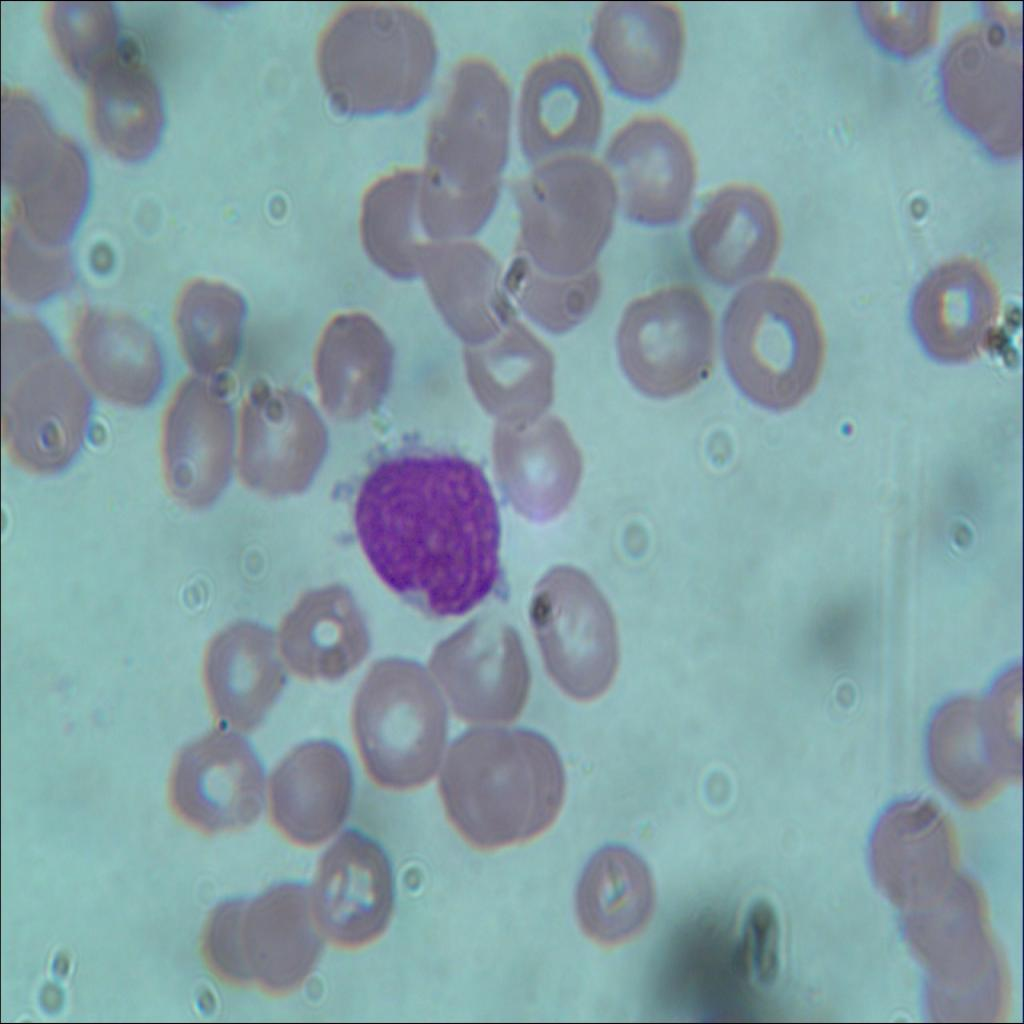Eritrosit: (716, 278, 828, 412), (529, 558, 623, 713), (906, 247, 1001, 382), (354, 651, 440, 799), (610, 285, 722, 398), (435, 607, 535, 731), (606, 108, 704, 234), (923, 695, 1021, 812), (440, 719, 530, 845), (521, 144, 613, 266), (174, 719, 268, 837), (238, 376, 326, 502), (69, 298, 161, 412), (593, 0, 689, 108), (311, 298, 395, 421), (514, 222, 606, 332), (13, 122, 95, 244), (163, 375, 236, 512), (486, 721, 566, 845), (6, 351, 84, 477), (83, 48, 171, 159), (278, 577, 373, 678), (516, 51, 602, 162), (269, 738, 356, 847), (938, 28, 1023, 138), (893, 872, 988, 970), (691, 180, 774, 292), (576, 837, 655, 954), (315, 836, 396, 950), (496, 410, 578, 520), (470, 324, 556, 428), (198, 621, 286, 722), (876, 801, 954, 911), (164, 274, 250, 371), (426, 244, 506, 344), (434, 67, 512, 169), (363, 161, 435, 271), (419, 139, 499, 238), (248, 878, 322, 984), (922, 935, 1010, 1023), (0, 210, 79, 308), (370, 7, 442, 112), (324, 5, 396, 109), (42, 0, 130, 79), (203, 895, 269, 988), (0, 88, 49, 191)
Limfoblast: (346, 437, 506, 622)
Platelet: (834, 405, 866, 445)
